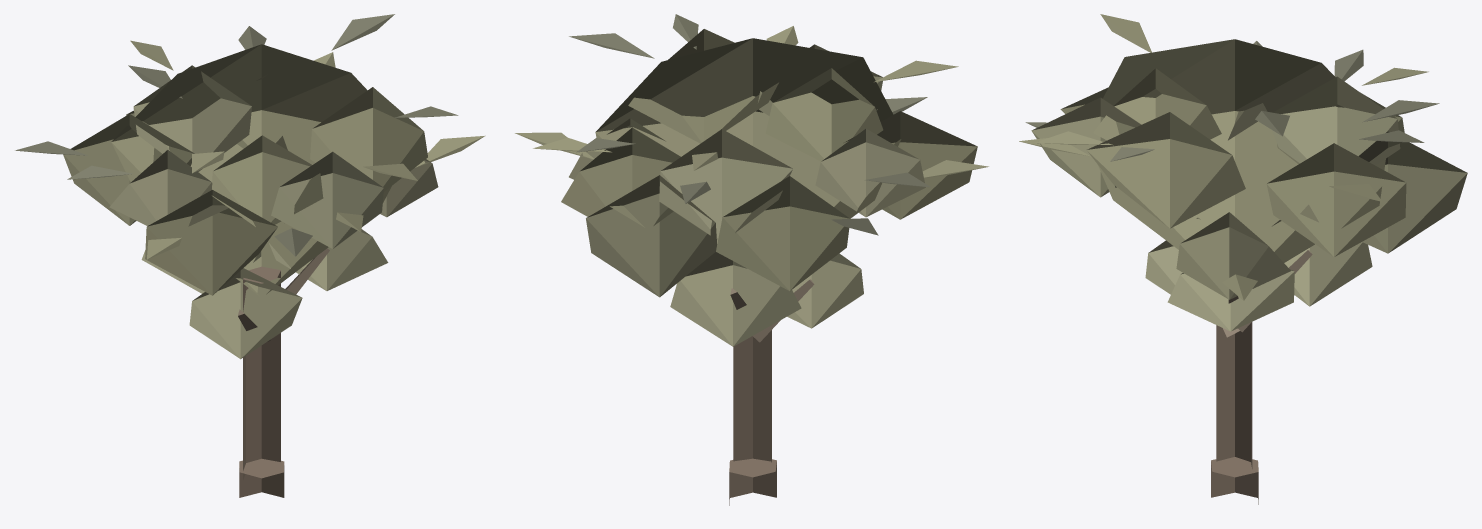
File: shu.xiangzhang@subadult__winter.glb
3 views of the same model, side by side, from view 1: azimuth 30°, elevation 25°; view 2: azimuth 150°, elevation 25°; view 3: azimuth 270°, elevation 25° (orthographic). The views are drawn at different scales.
Visible parts, largest first — view 1: shu.xiangzhang@subadult__winter; view 2: shu.xiangzhang@subadult__winter; view 3: shu.xiangzhang@subadult__winter.
Part boxes in pixels (x1,y1,x2,y2): shu.xiangzhang@subadult__winter: [15, 14, 485, 497]; shu.xiangzhang@subadult__winter: [515, 14, 988, 505]; shu.xiangzhang@subadult__winter: [1019, 14, 1467, 504].
Size of the model in its own units: 9.37 by 9.61 by 8.59.
